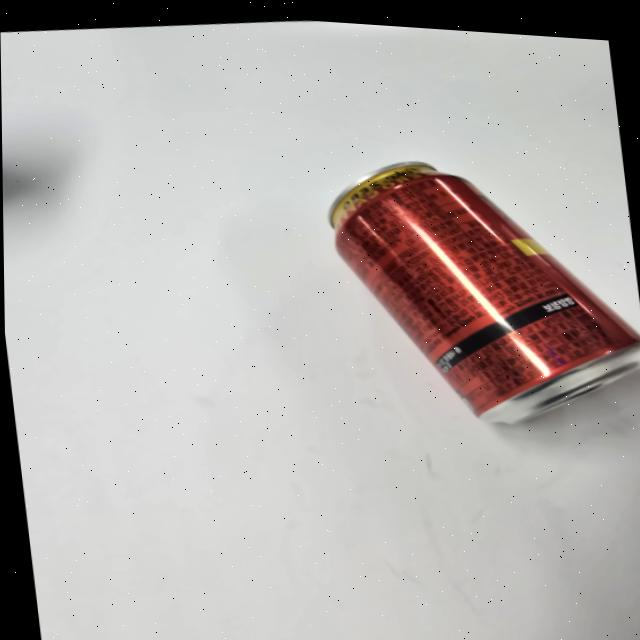can_coke_decaf: (329, 161, 640, 422)
